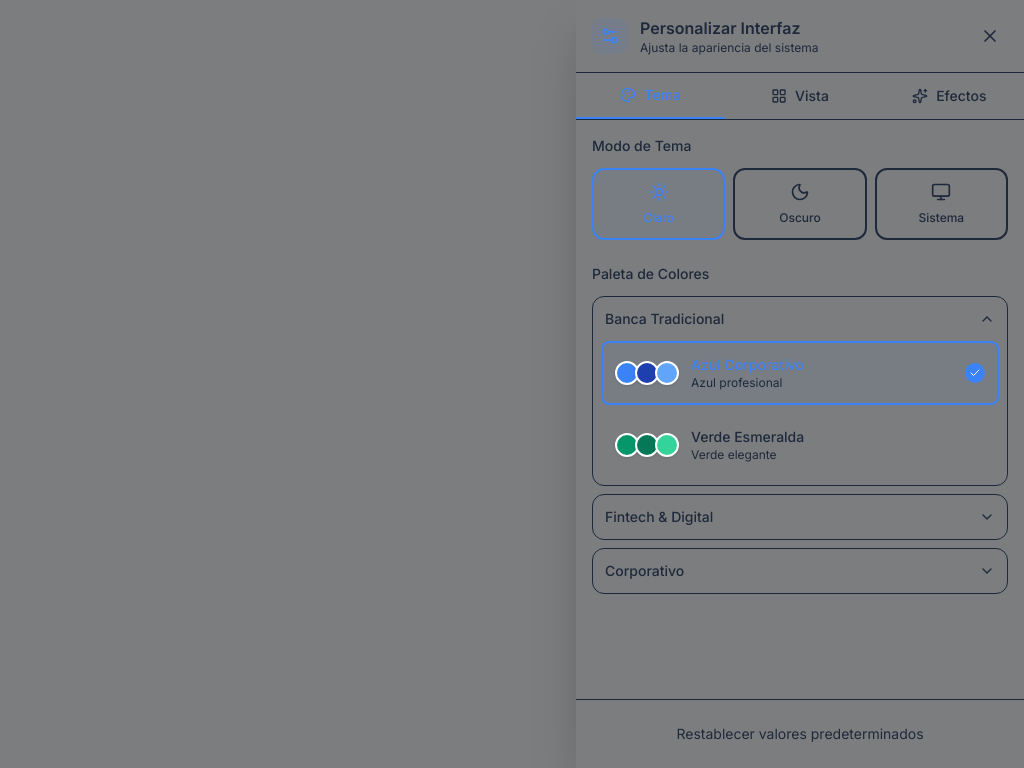
Test: UISettingsPanel › Effects Tab › debe mostrar toggles de efectos
Click the button "Efectos".
click(949, 96)  # box [875,73,1023,119]
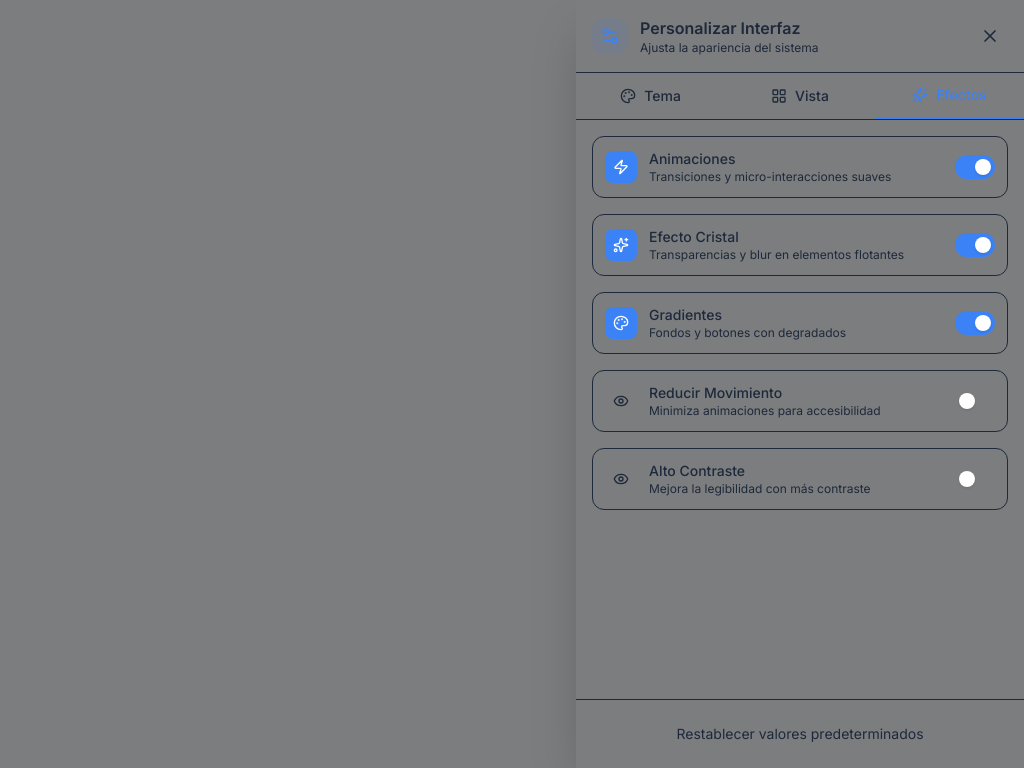
Result: the text "Animaciones" is shown at [649,150,736,167]
Result: the text "Efecto Cristal" is shown at [649,228,739,245]
Result: the text "Gradientes" is shown at [649,306,722,323]
